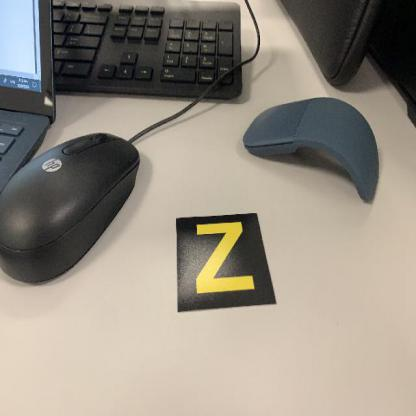z: (175, 211, 278, 314)
